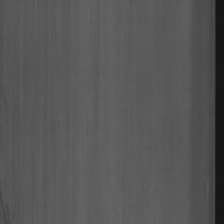water_spot: (0, 180, 15, 223)
